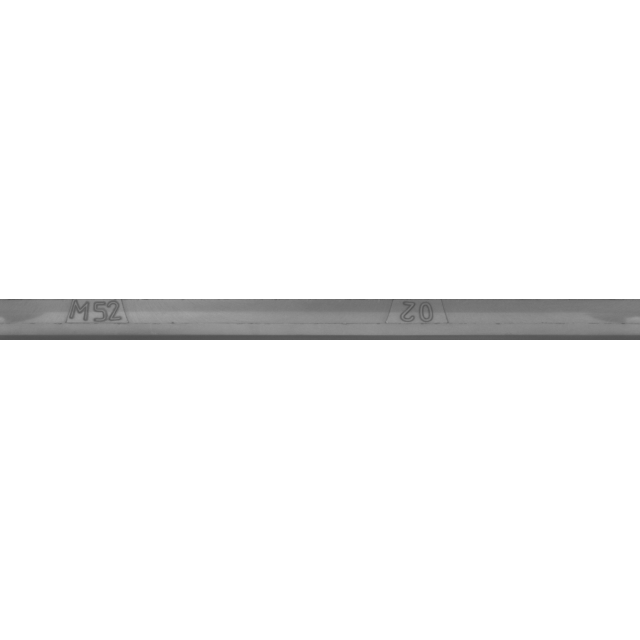mohao: (4, 270, 204, 370)
xuehao: (325, 270, 525, 370)
